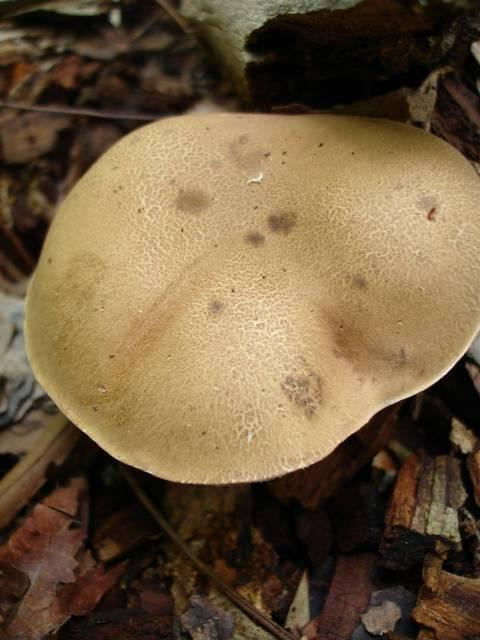Non-edible Mushroom: (21, 108, 479, 487)
